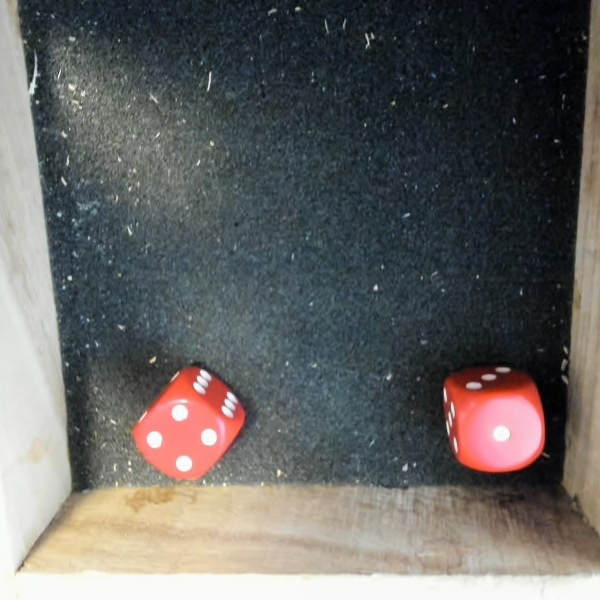red_die_pip1: (432, 356, 546, 470)
red_die_pip4: (113, 346, 263, 500)
